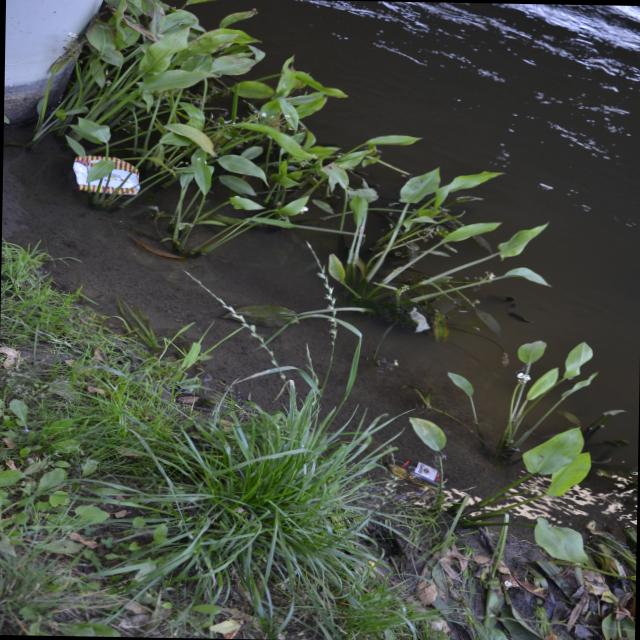Lolium: (178, 271, 310, 448), (288, 232, 346, 456)
